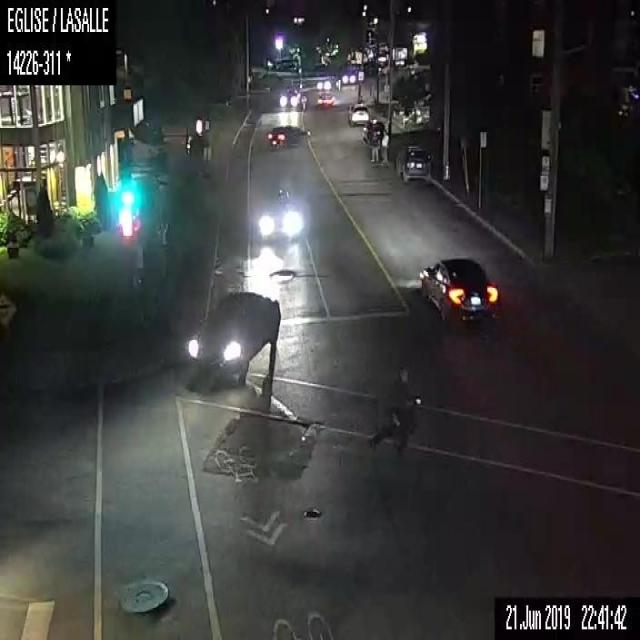pedestrian: (361, 364, 425, 458), (369, 117, 382, 163), (379, 126, 390, 172)
vehicle: (183, 288, 278, 373), (419, 255, 496, 325), (256, 192, 304, 241), (395, 142, 431, 182), (268, 121, 306, 144), (347, 100, 369, 127), (276, 84, 298, 105), (316, 90, 334, 106), (314, 77, 333, 90), (342, 71, 356, 86)
